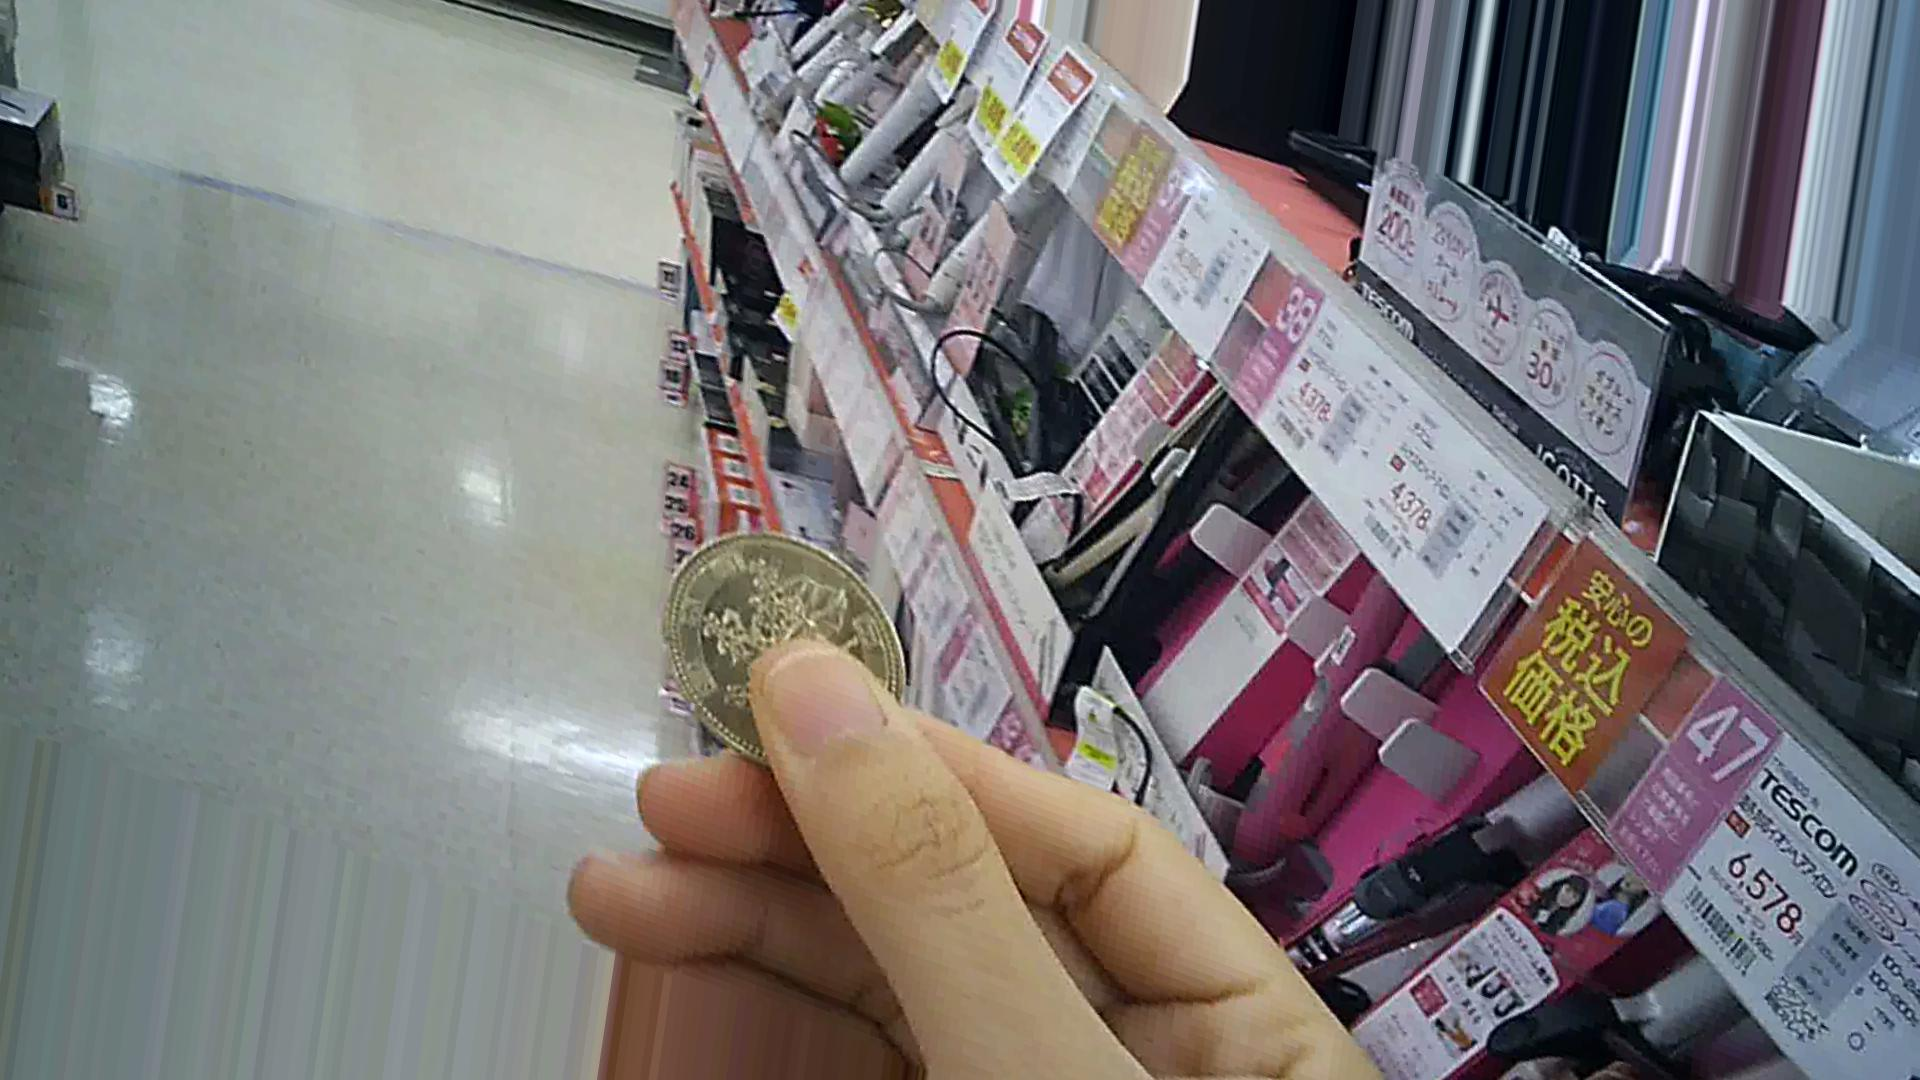500 Yen: (655, 539, 928, 764)
